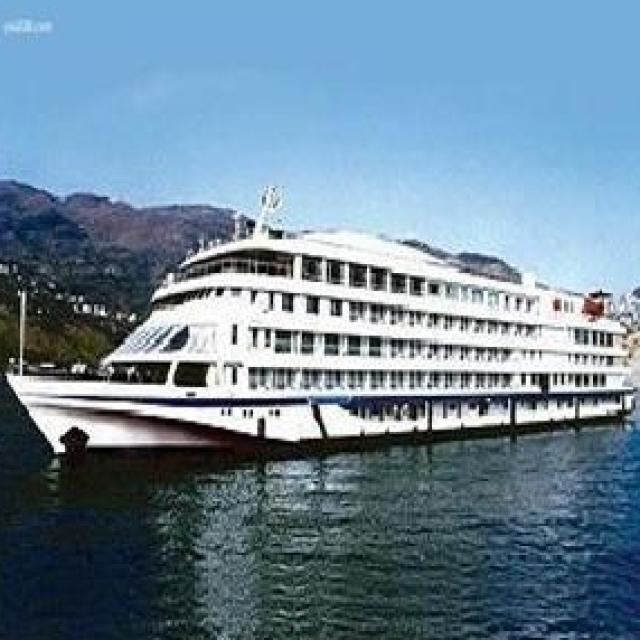passenger ship: (7, 200, 638, 451)
